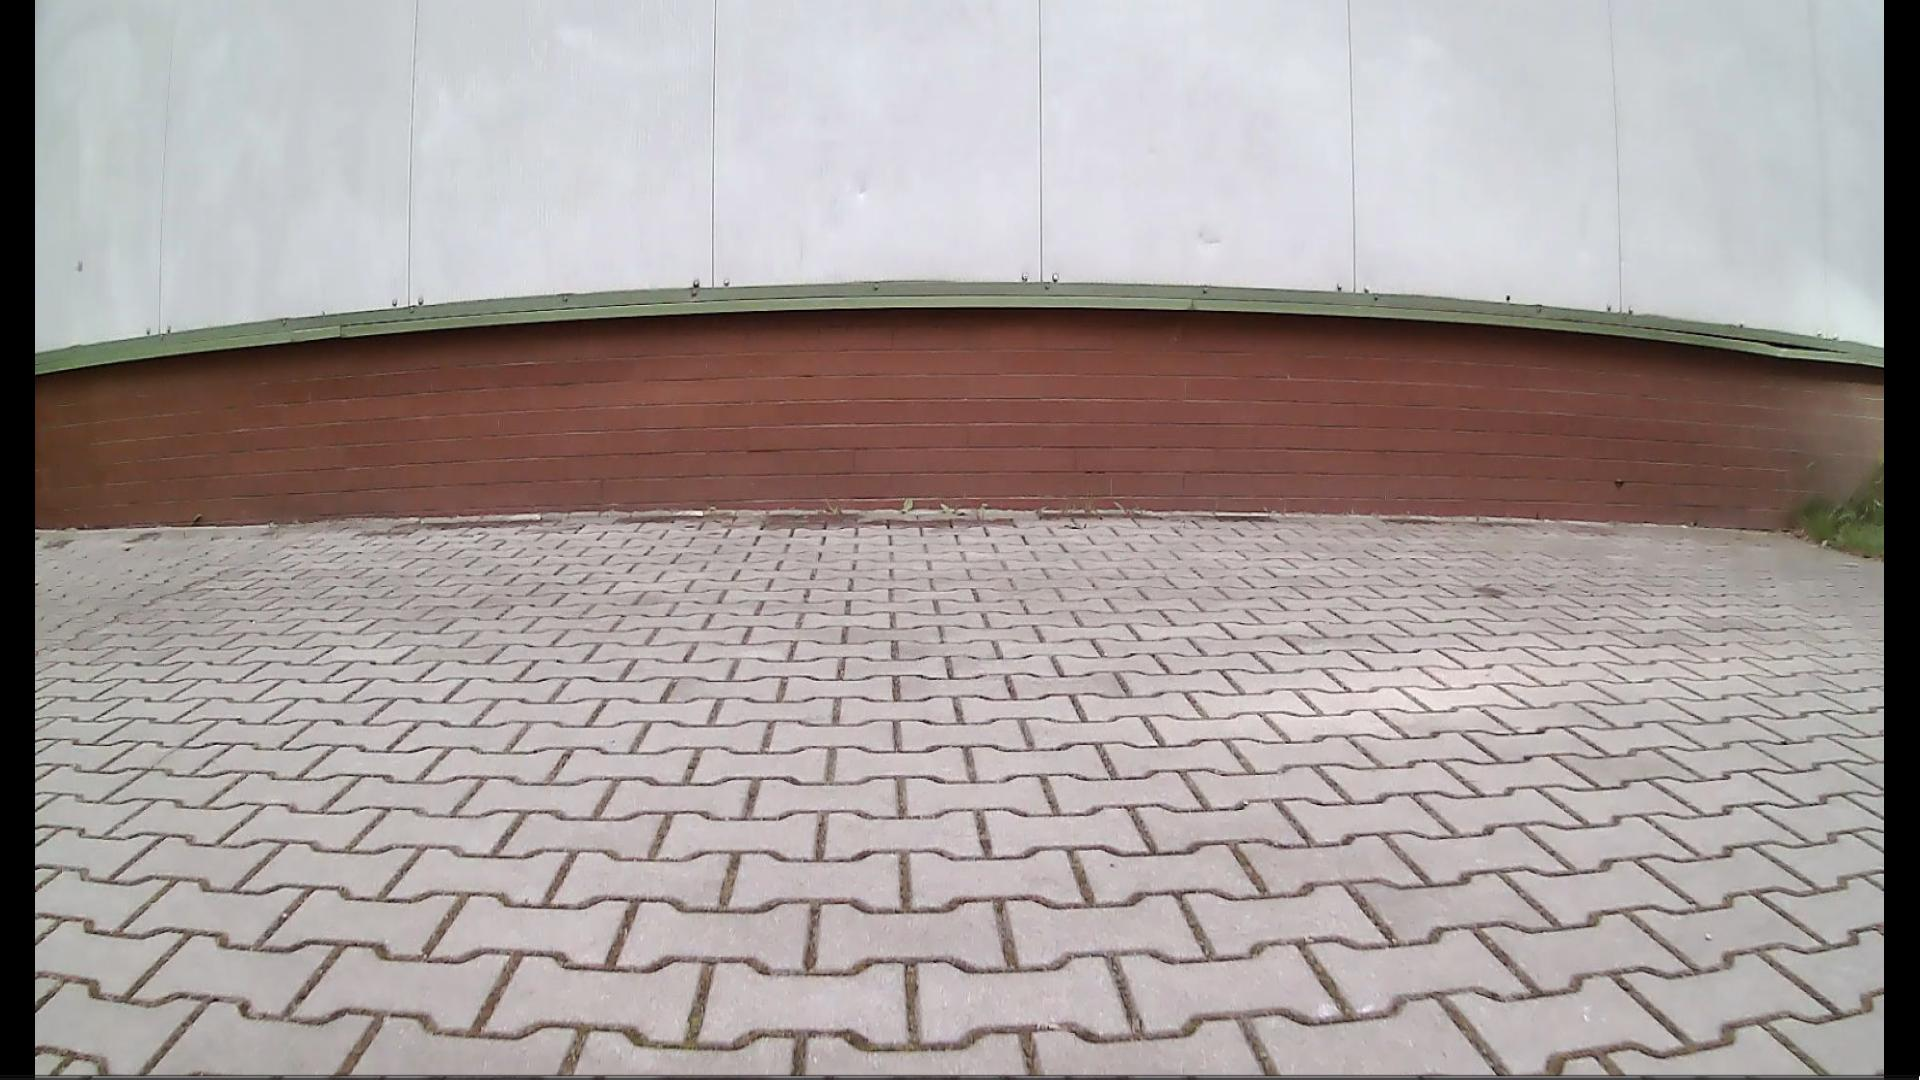wall: (37, 5, 1882, 529)
